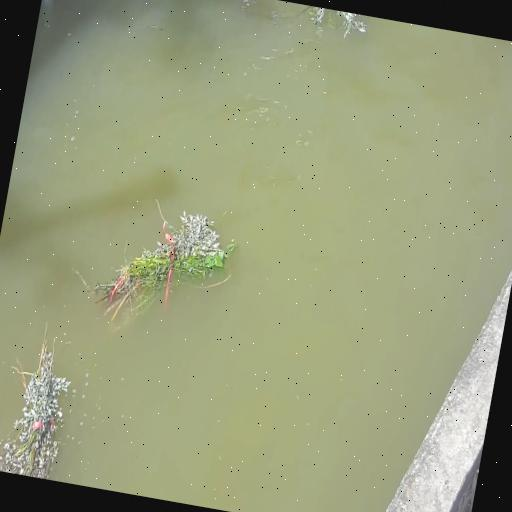twig: (86, 192, 240, 336), (0, 316, 82, 479), (302, 6, 368, 43)
